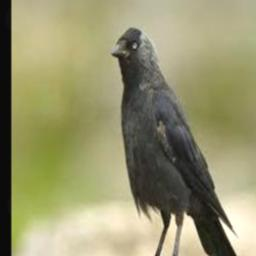Crow: (112, 27, 243, 256)
